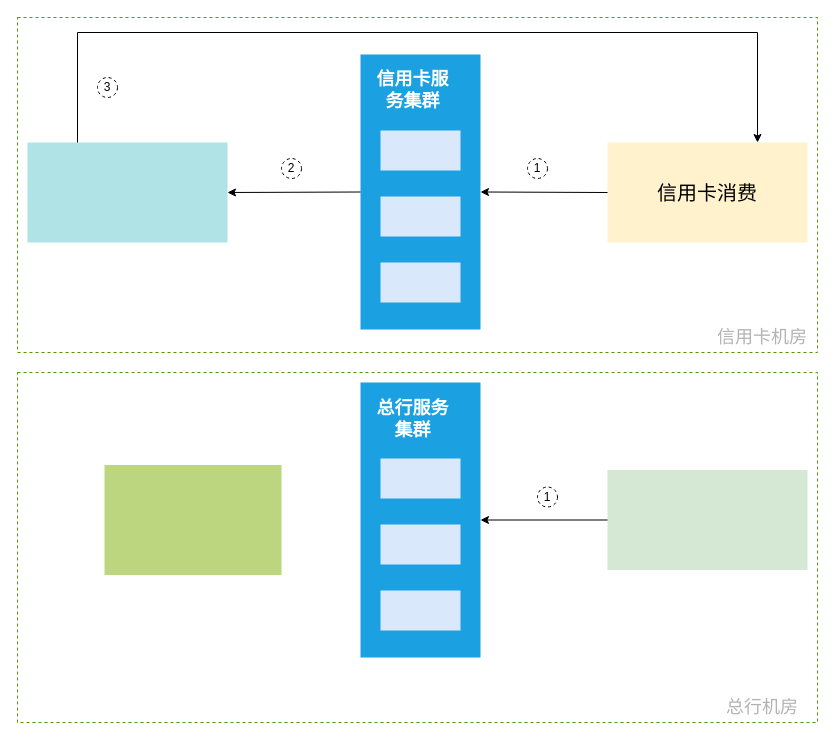
This 835x740 diagram has some shape labels left out. Here are the shapes that lost their labels. From the top down, the centre of each, then its label:
[127,192]: 阳光惠生活
[192,519]: 集群 集市
[707,520]: 个贷推荐
